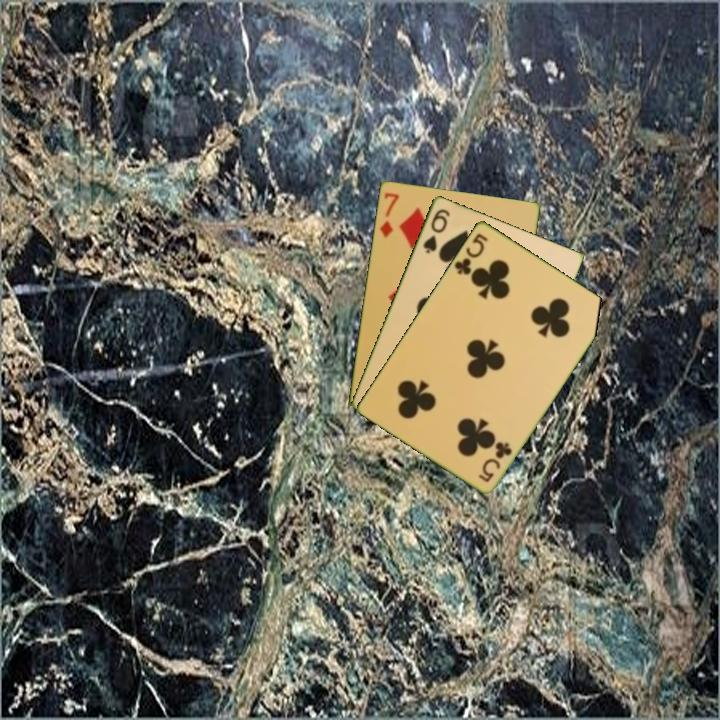5c: (451, 229, 491, 278), (475, 438, 515, 485)
6s: (419, 205, 453, 256)
7d: (376, 189, 402, 240)
